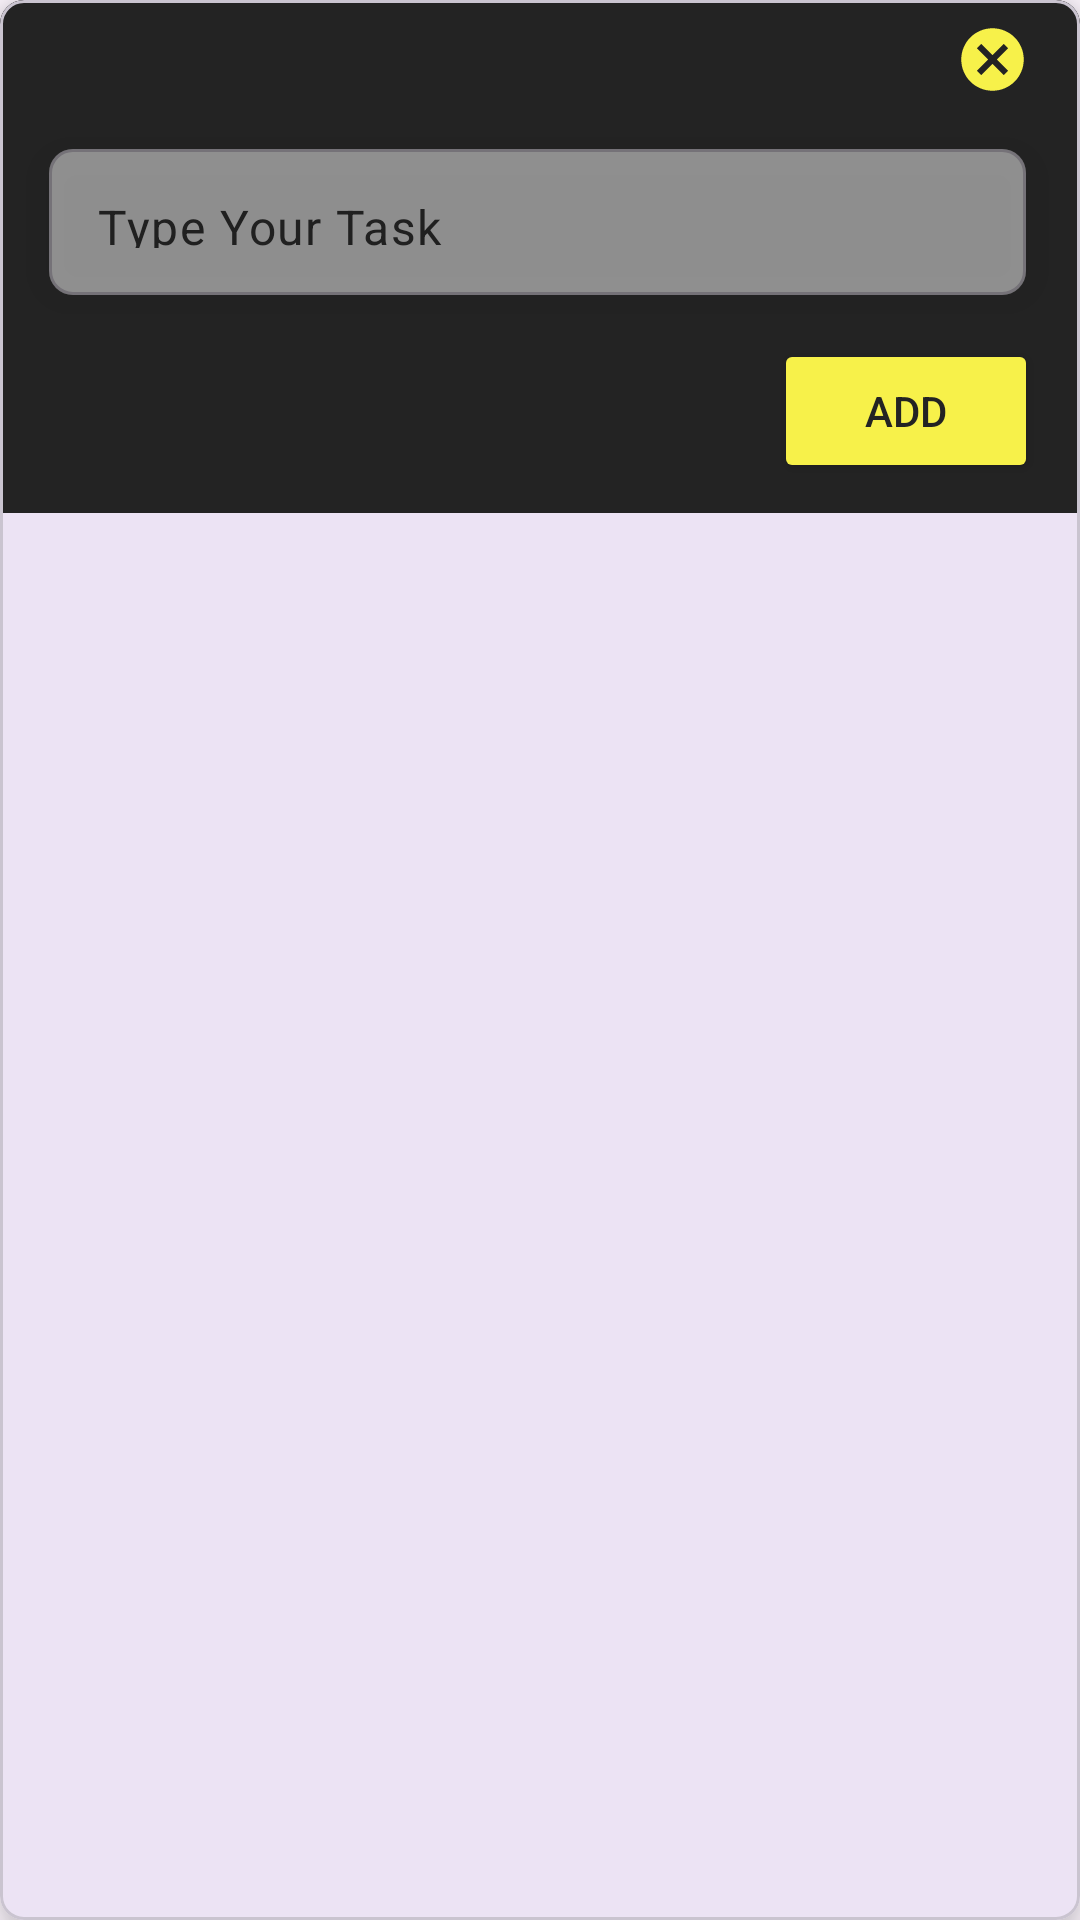

Named icons in this screenshot (1080x1920) and their centers, [x,y]:
cancel: [992,59]
